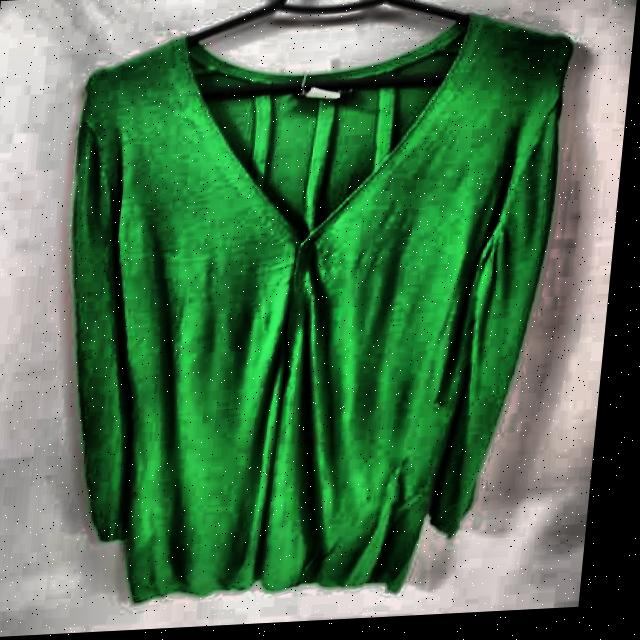clothes: (25, 9, 583, 617)
